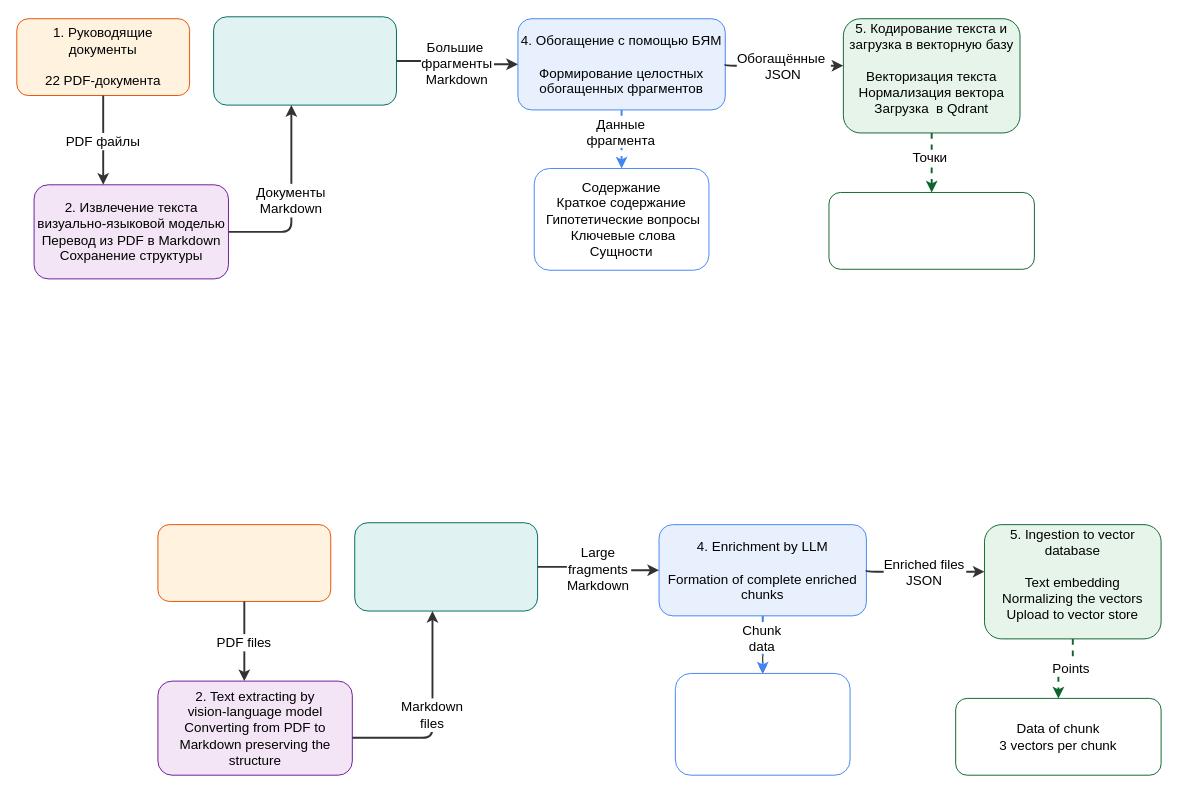
This 1178x792 diagram has some shape labels left out. Here are the shapes that lost their labels. From the top down, the box of each, then its label:
(213, 16, 396, 105): 3. Фрагментация Разбиение по заголовкам Рекурсивное деление Контроль токенов
(828, 192, 1034, 269): Данные фрагмента 3 вектора на фрагмент
(157, 524, 331, 601): 1. Guiding documents 22 PDF documents
(354, 522, 538, 611): 3. Chunking Splitting by headings Recursive division Token Control
(674, 672, 850, 775): Content Brief content Hypothetical questions Keywords Entities
